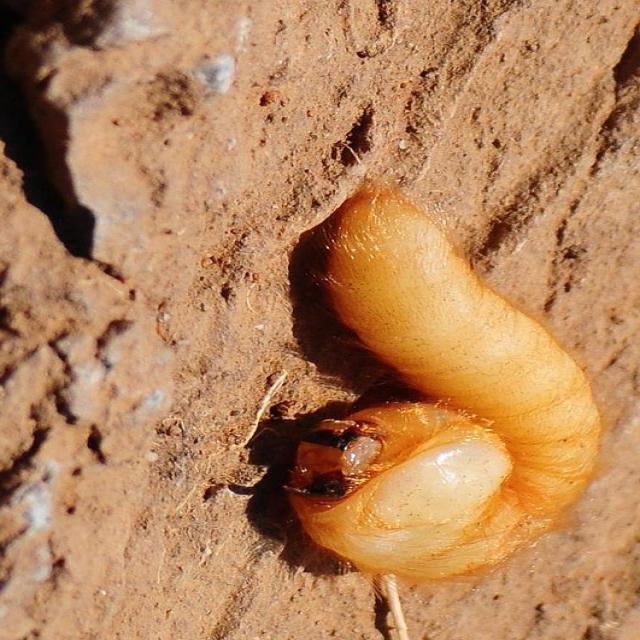grub: (232, 196, 606, 580)
